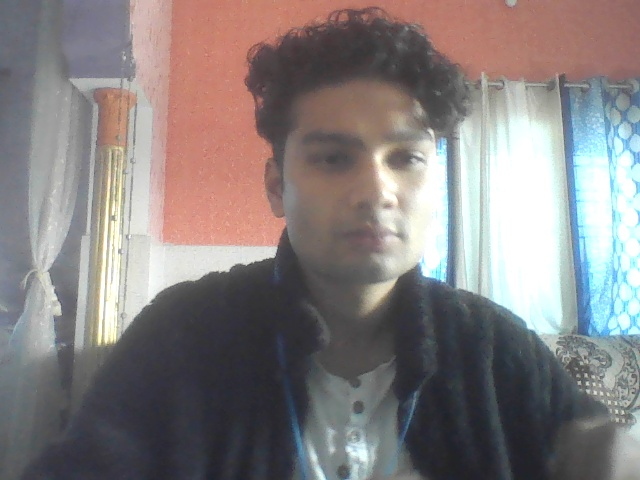real: (245, 9, 455, 306)
